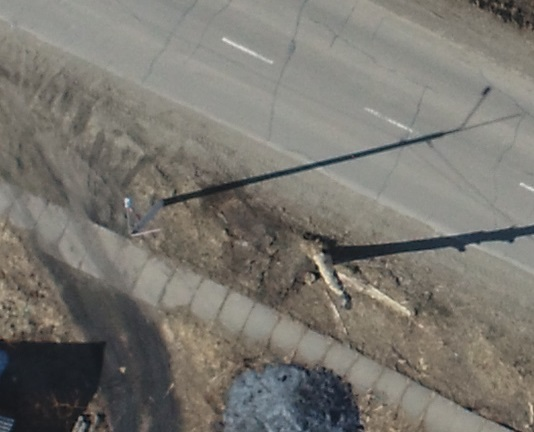opora: (120, 178, 227, 241)
